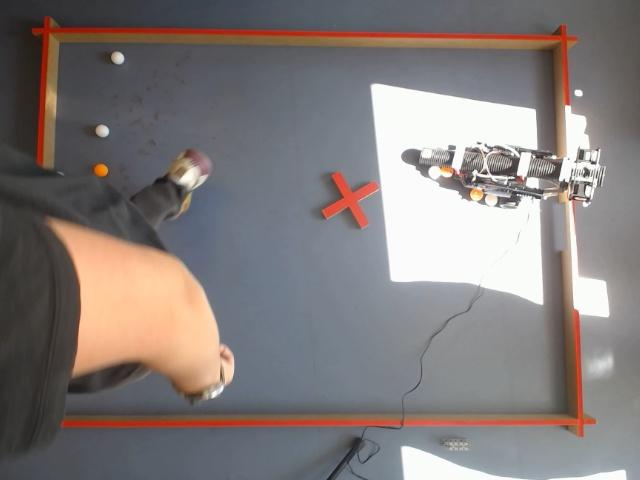orange: (90, 161, 110, 179)
robot: (418, 143, 606, 209)
white: (108, 50, 125, 68), (92, 122, 110, 139), (485, 192, 499, 208)
